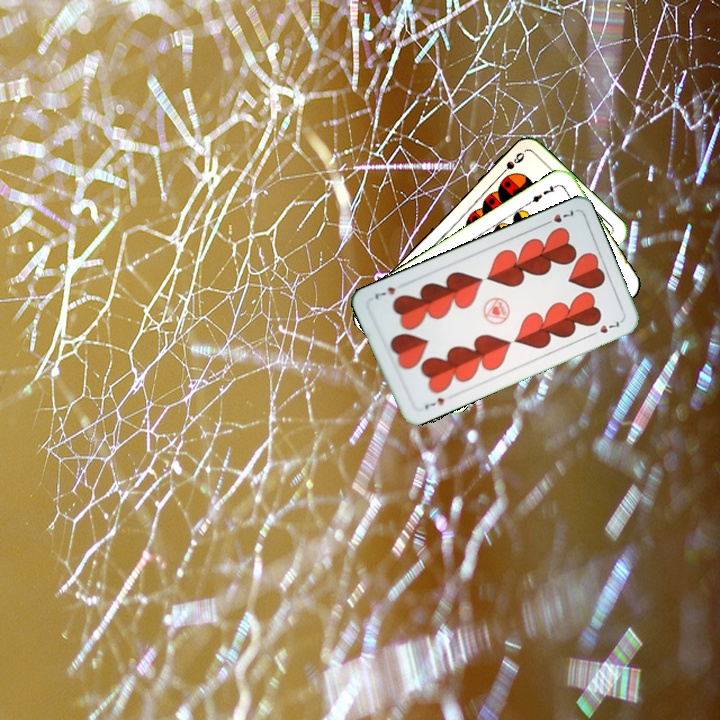E7: (524, 180, 561, 207)
H7: (539, 206, 576, 229), (421, 394, 447, 412)
S9: (495, 148, 527, 182)
